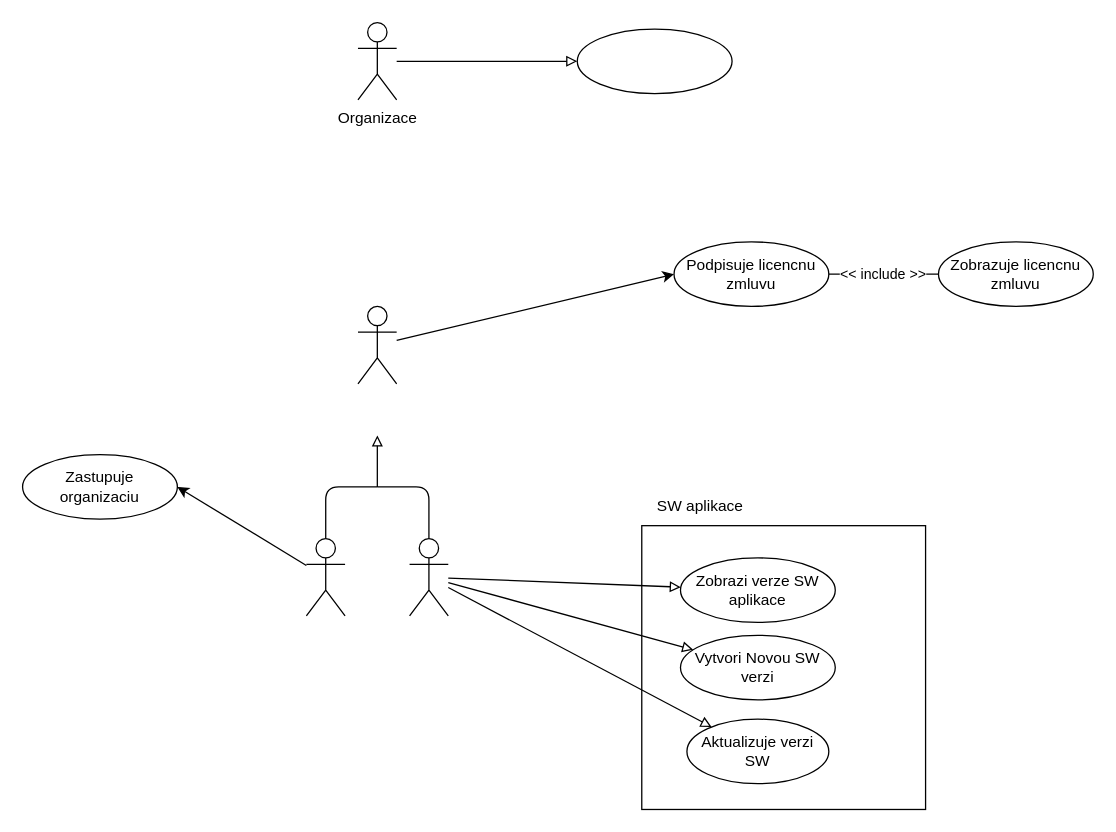
Some shapes in this 1116 by 832 pixel diagram are drawn without their labels. The centre of each missing label's shape, as x and y in pixels:
"Fyzicka osoba" goes at (377,344).
"Kupuju licenční smlouvu" goes at (654,61).
"Pracovnik organizacie" goes at (325,576).
"Vyvojar" goes at (428,576).
